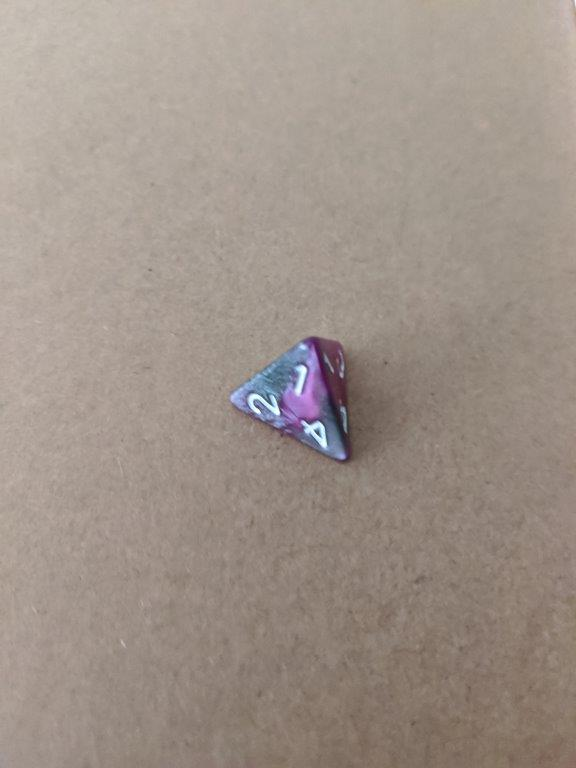d4-1: (218, 331, 353, 470)
